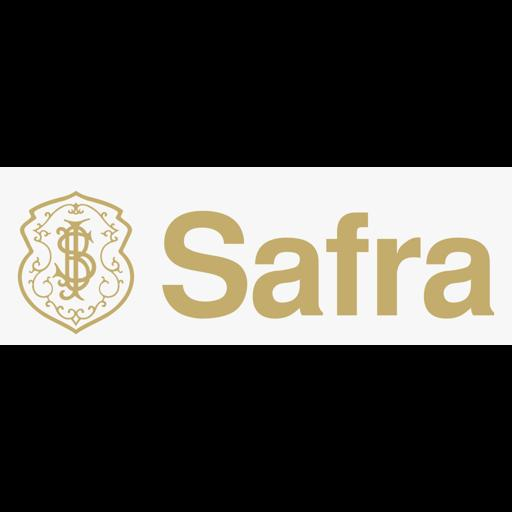Banco Safra: (0, 167, 512, 345)
